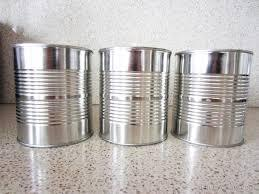Tin: (10, 37, 94, 157), (174, 39, 252, 156), (96, 36, 170, 154)
